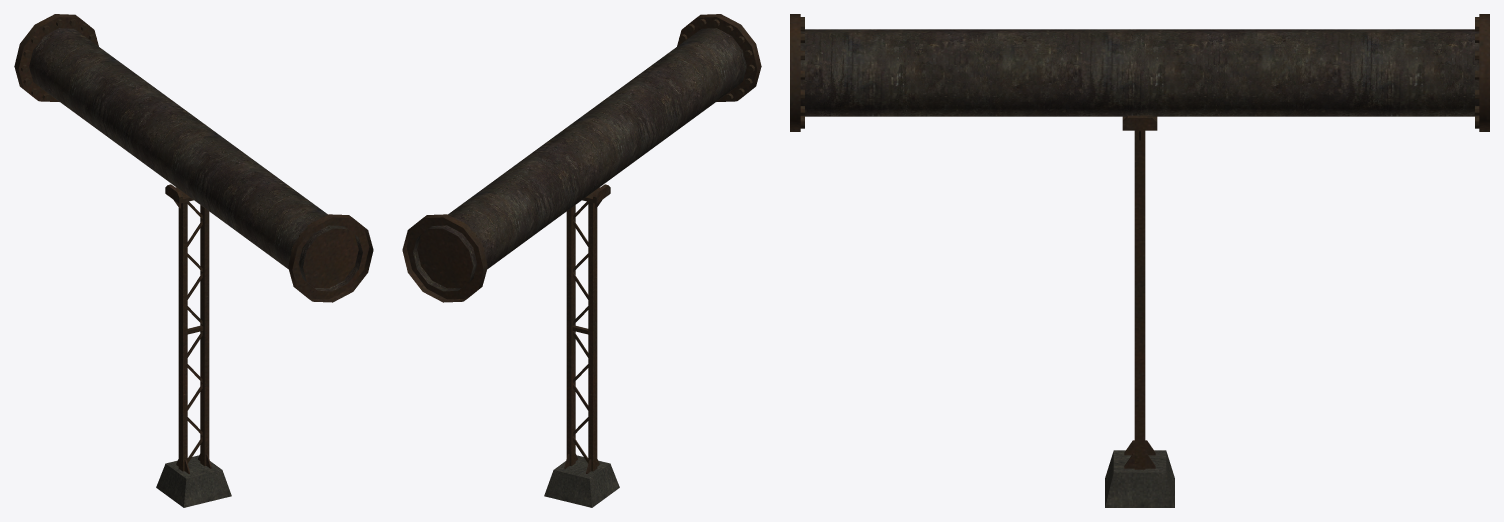
File: pipe_cx_1.obj
3 views of the same model, side by side, from view 1: azimuth 30°, elevation 25°; view 2: azimuth 150°, elevation 25°; view 3: azimuth 270°, elevation 25° (orthographic). The views are drawn at different scales.
Parts seen in each view (by area): view 1: pipe_cx_1; view 2: pipe_cx_1; view 3: pipe_cx_1.
Boxes of the visible parts, x1,y1,x2,y2 form: pipe_cx_1: [14, 14, 373, 507]; pipe_cx_1: [402, 14, 761, 507]; pipe_cx_1: [790, 14, 1489, 507].
Bounding box in the file's own units: 0.676 × 2.99 × 4.
